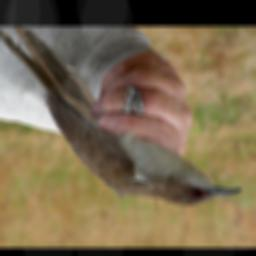Cuckoo: (0, 27, 243, 207)
